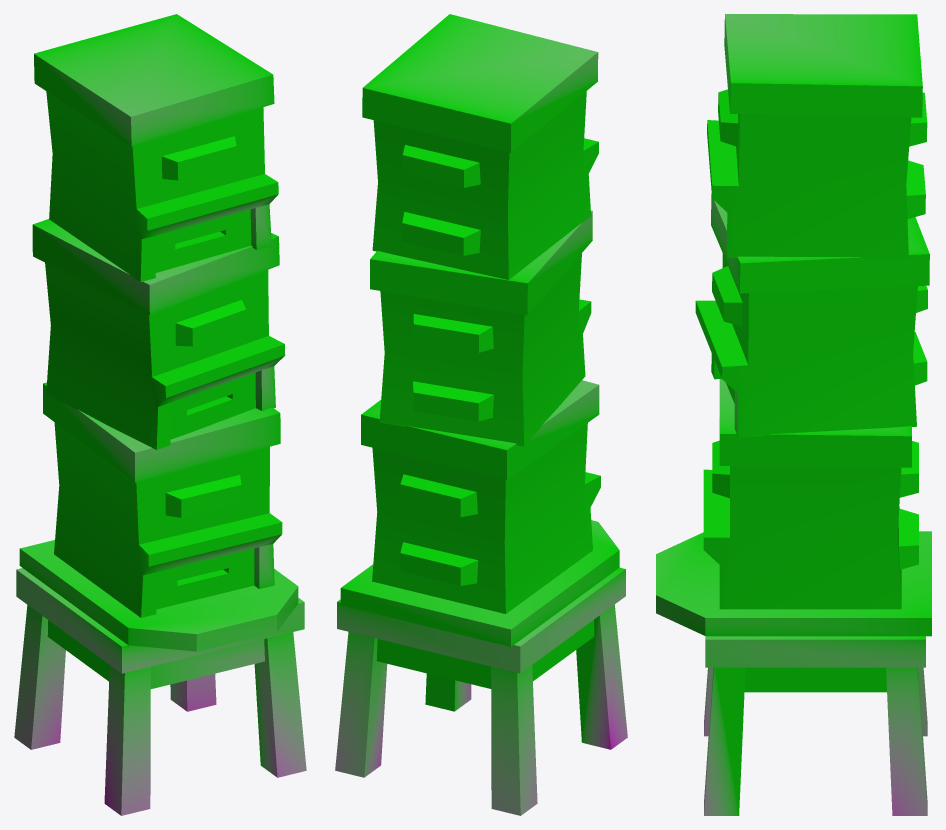
3 views of the same model, side by side, from view 1: azimuth 30°, elevation 25°; view 2: azimuth 150°, elevation 25°; view 3: azimuth 270°, elevation 25° (orthographic). The views are drawn at different scales.
Parts seen in each view (by area): view 1: G:\FFXIV-MapTools\exports\f1f2\bg\ffxiv\fst_f1\fld\f1f2\bgpa; view 2: G:\FFXIV-MapTools\exports\f1f2\bg\ffxiv\fst_f1\fld\f1f2\bgpa; view 3: G:\FFXIV-MapTools\exports\f1f2\bg\ffxiv\fst_f1\fld\f1f2\bgpa.
Boxes of the visible parts, box(x1,y1,x2,y2) form: G:\FFXIV-MapTools\exports\f1f2\bg\ffxiv\fst_f1\fld\f1f2\bgpa: box(14, 14, 306, 815); G:\FFXIV-MapTools\exports\f1f2\bg\ffxiv\fst_f1\fld\f1f2\bgpa: box(335, 14, 627, 815); G:\FFXIV-MapTools\exports\f1f2\bg\ffxiv\fst_f1\fld\f1f2\bgpa: box(656, 14, 931, 815).
Bounding box in the file's own units: 1.04 × 3.72 × 1.29.
